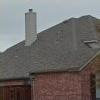Chimney: (19, 3, 47, 48)
